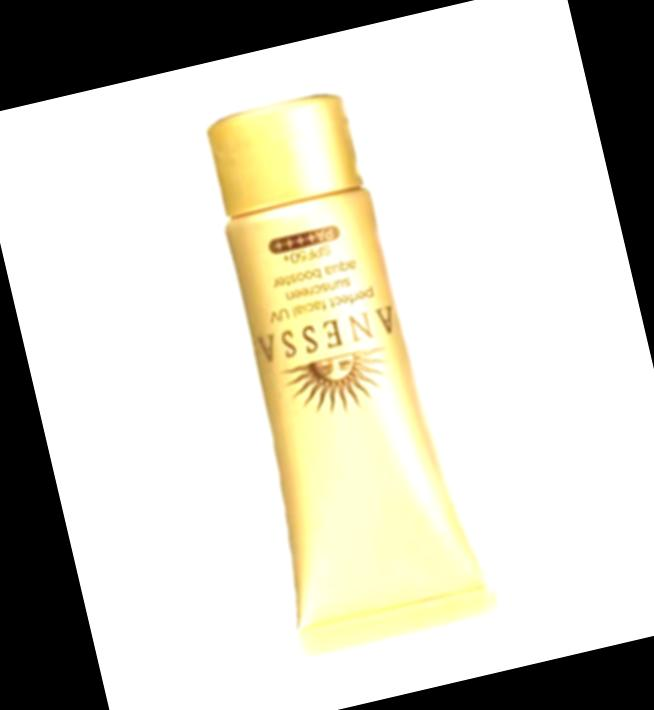cosmetic: (177, 79, 505, 658)
